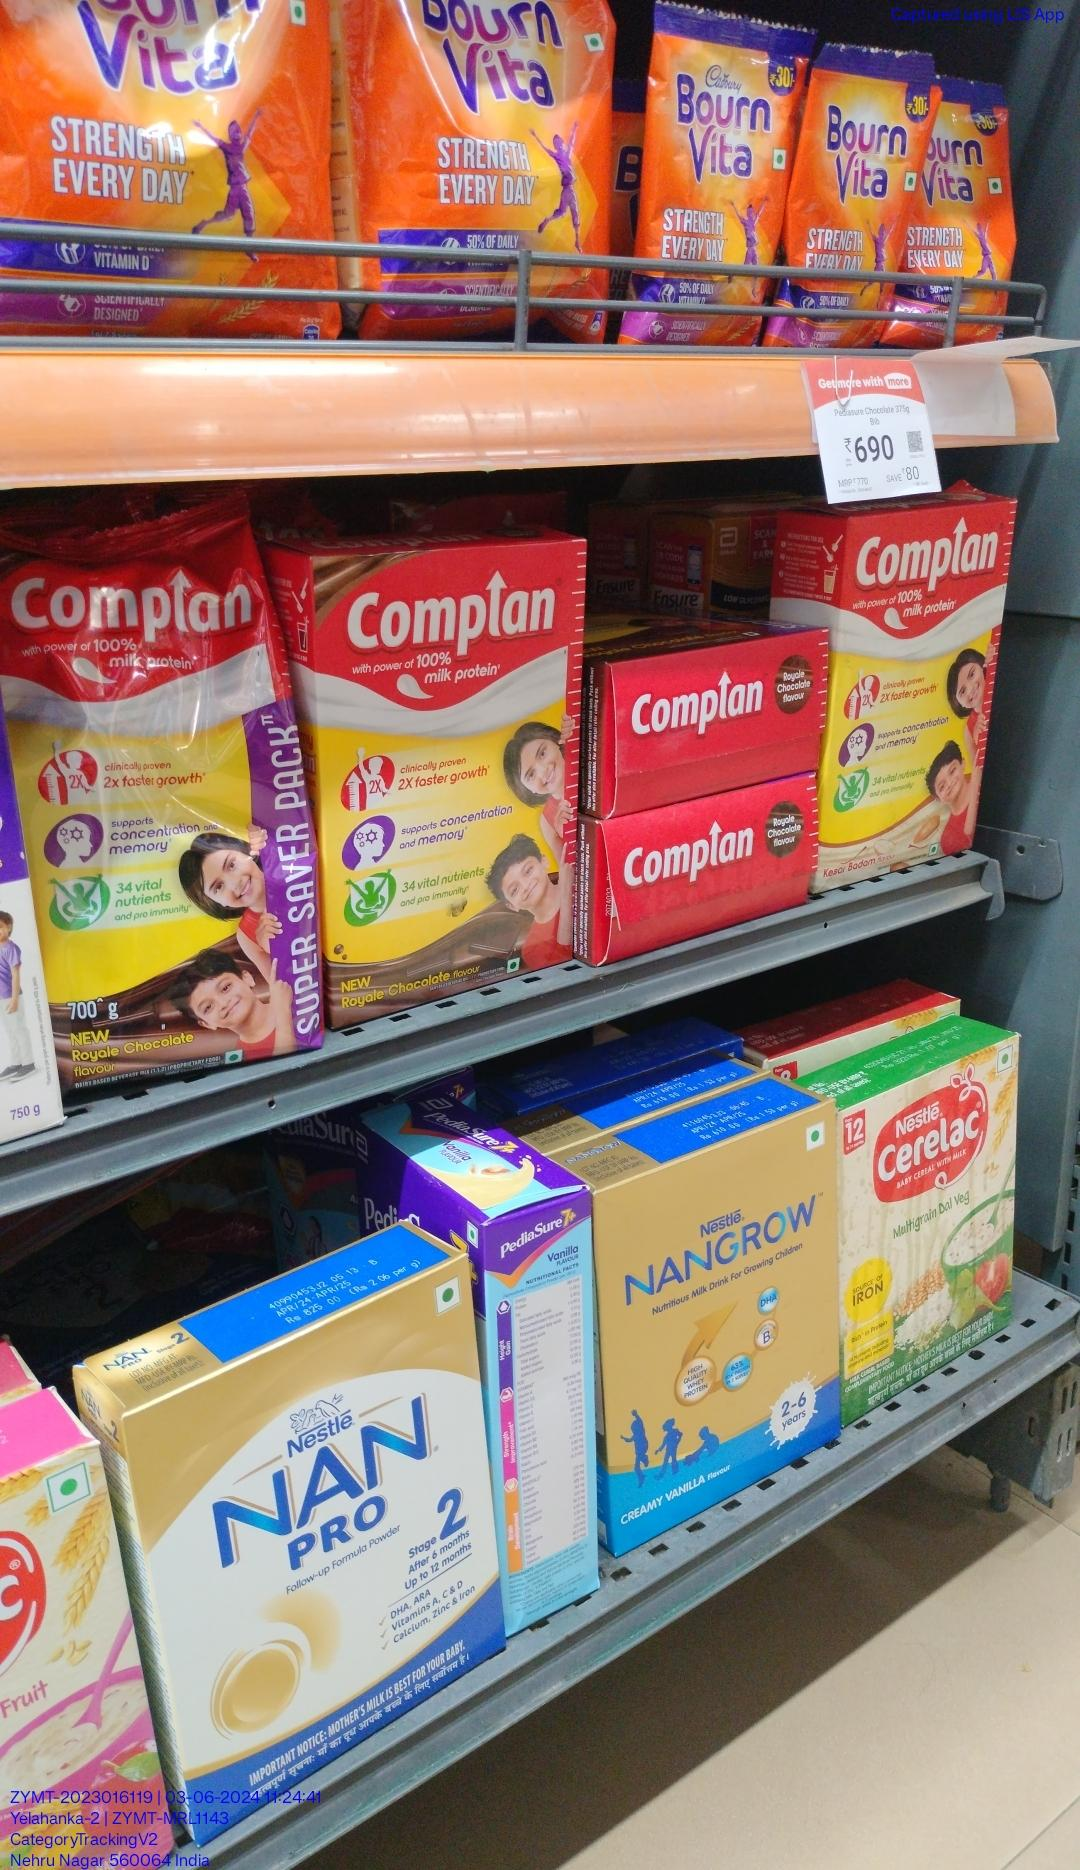BOURN_VITA_75_G_POUCH: (643, 21, 793, 332), (801, 42, 912, 338), (914, 76, 1020, 339)
